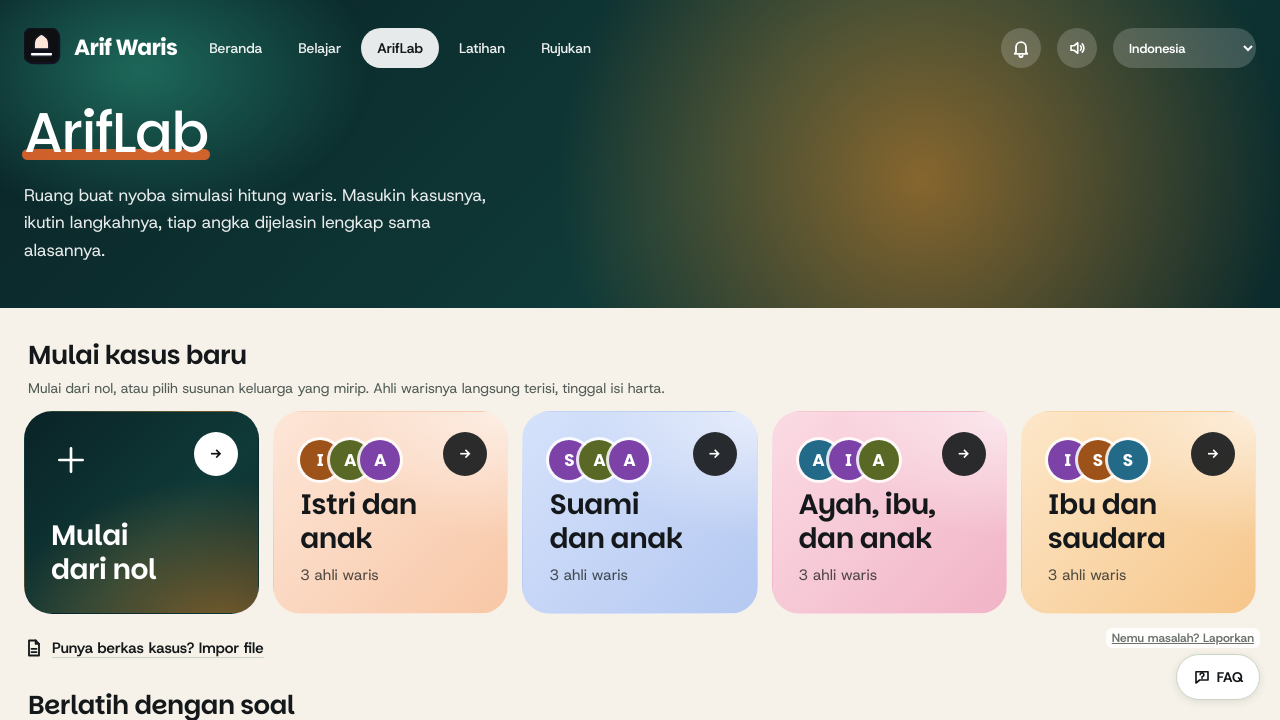
Test: ulangi dari awal meminta konfirmasi di halaman
The width and height of the screenshot is (1280, 720).
Click the button "→ Mulai dari nol".
click(142, 512)  # box x1=24 y1=411 x2=259 y2=614
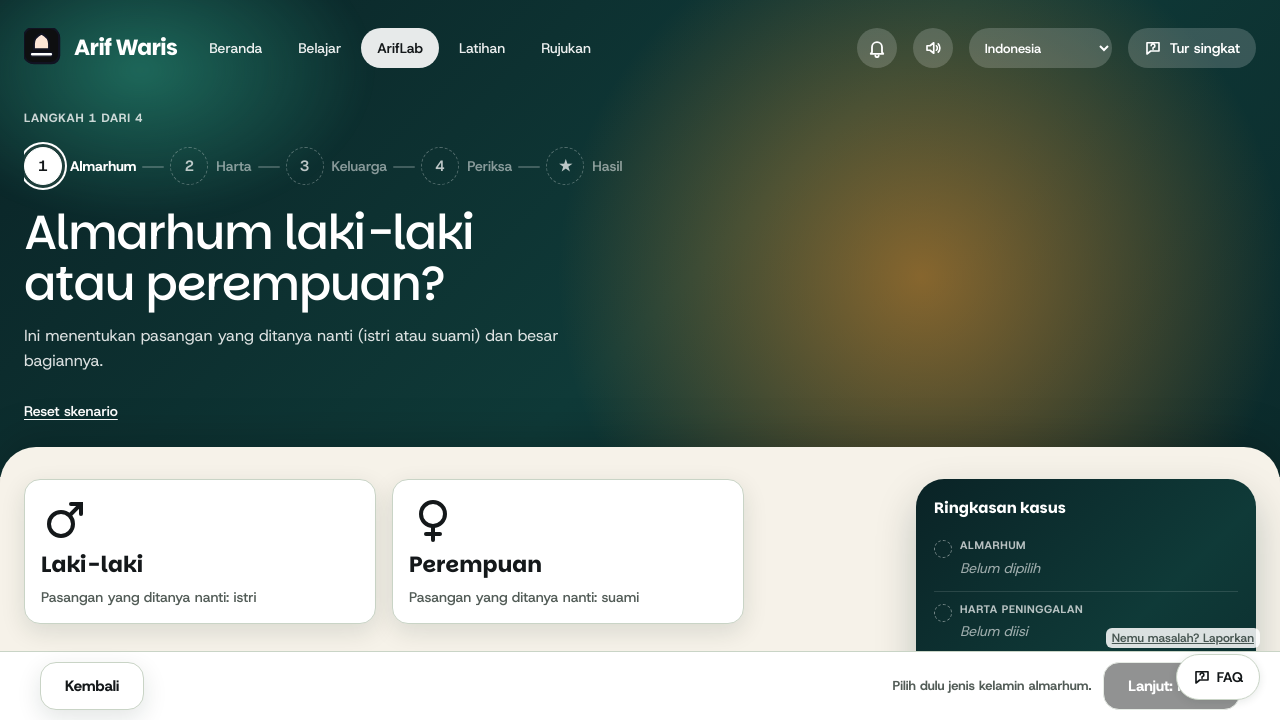
Click the radio button labelled "Laki-laki Pasangan yang ditanya nanti: istri".
click(65, 520)  # box x1=24 y1=479 x2=376 y2=624
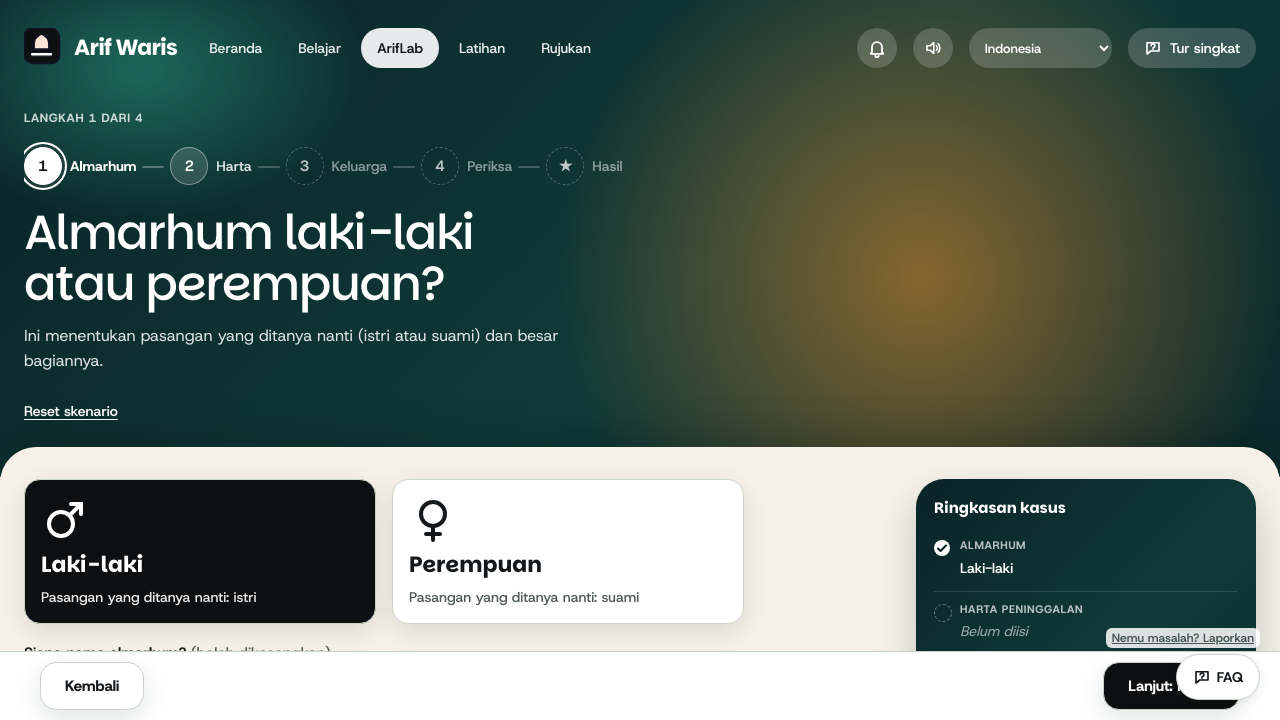
Click the button "Reset skenario".
click(71, 411)  # box x1=24 y1=389 x2=118 y2=433
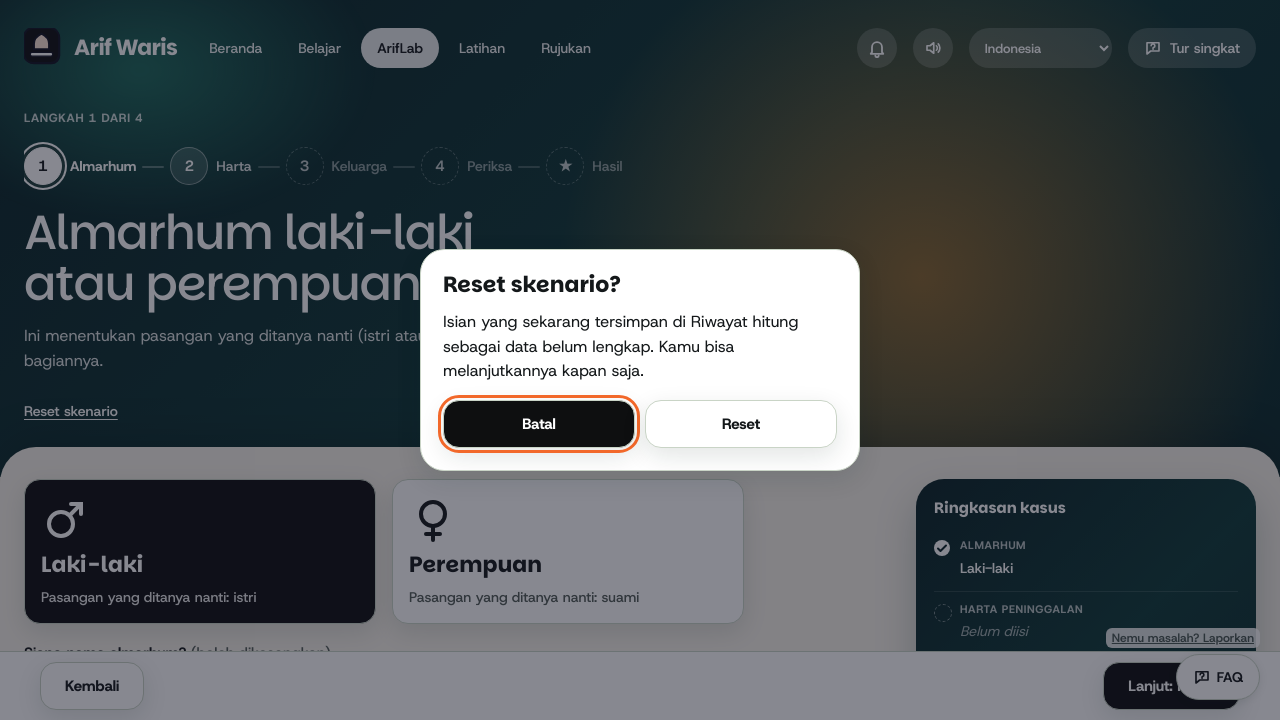
Check: the dialog is shown
Check: the dialog shows "data belum lengkap", box x1=443 y1=311 x2=798 y2=381
Click the button "Batal".
click(539, 424)  # box x1=443 y1=400 x2=635 y2=448
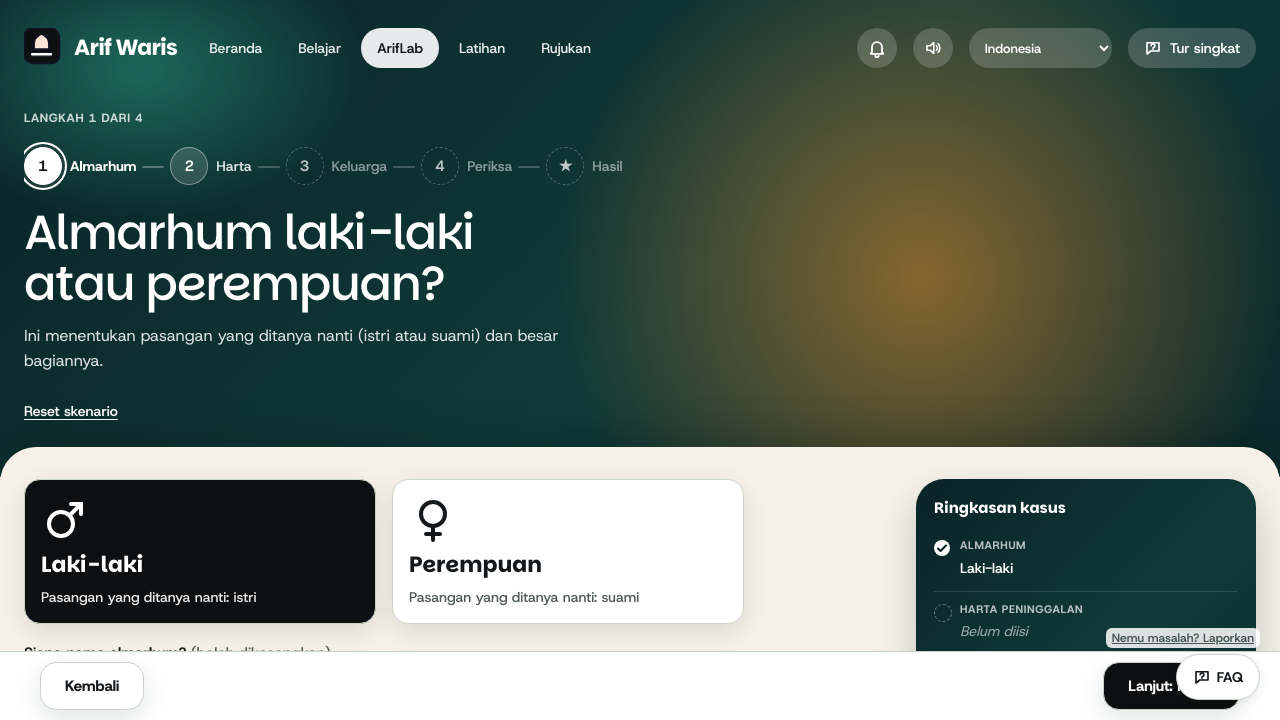
Check: the heading "Almarhum laki-laki atau perempuan?" is shown, box x1=24 y1=199 x2=473 y2=317
Check: the dialog is gone
Click the button "Reset skenario".
click(71, 411)  # box x1=24 y1=389 x2=118 y2=433
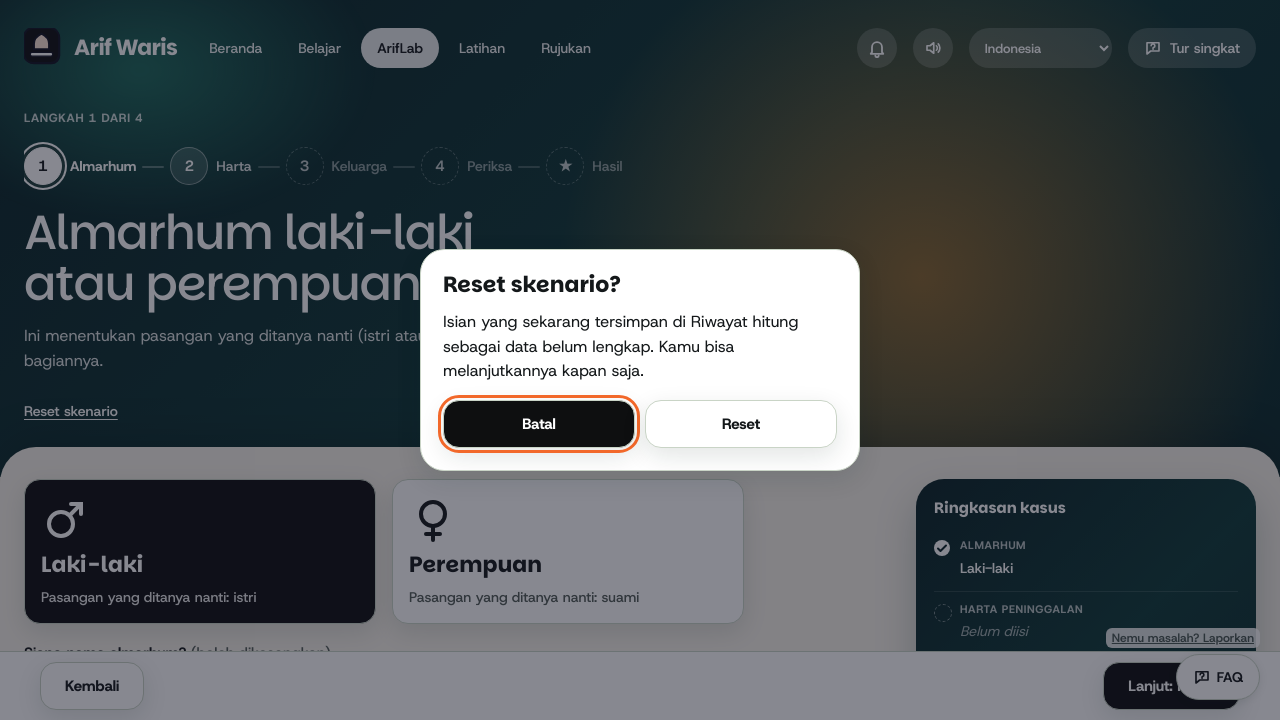
Click the button "Reset".
click(741, 424)  # box x1=645 y1=400 x2=837 y2=448
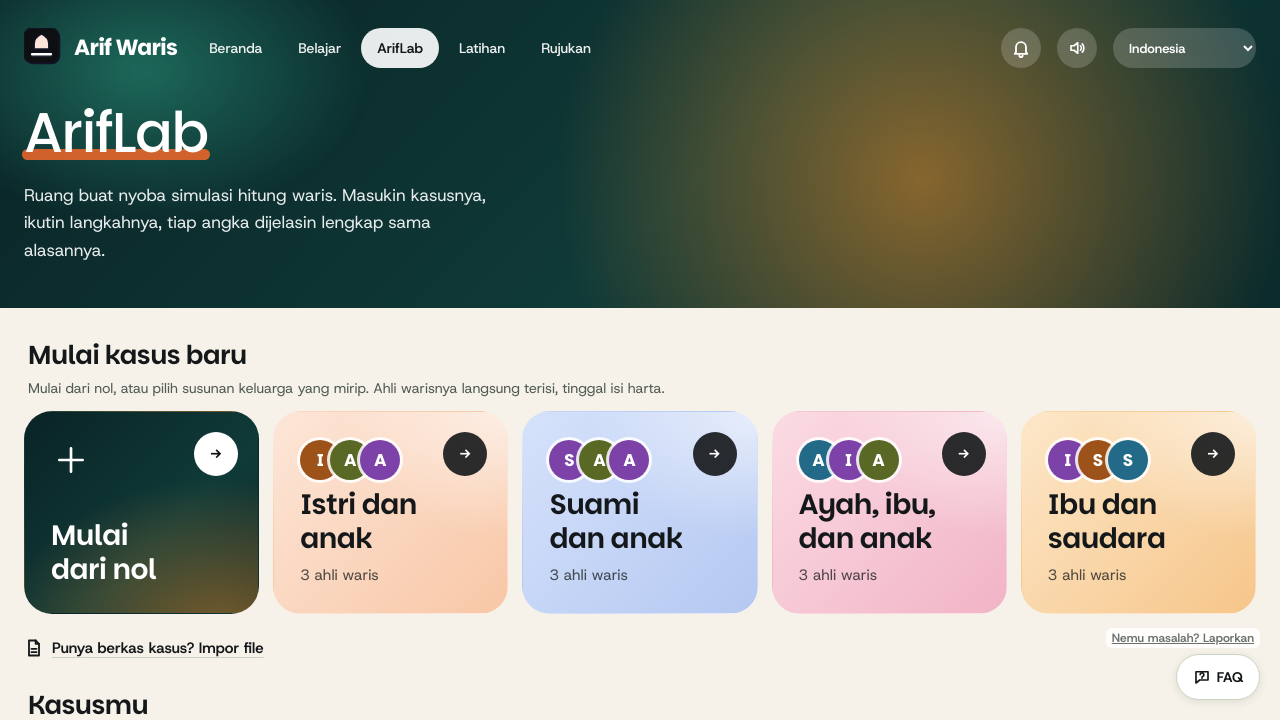
Check: the button "→ Mulai dari nol" is shown, box x1=24 y1=411 x2=259 y2=614
